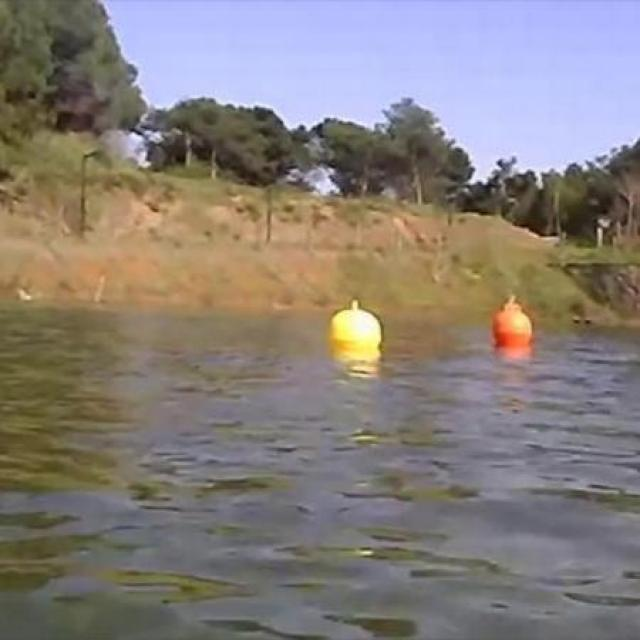buoy: (332, 302, 382, 354), (493, 300, 535, 346)
